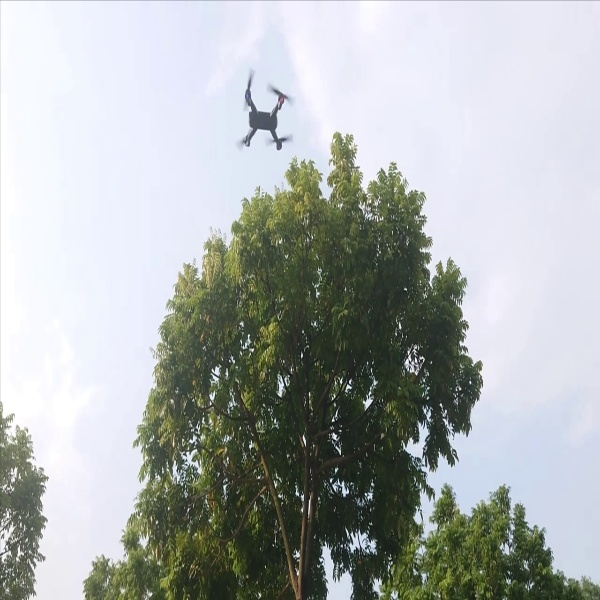drone: (230, 63, 297, 153)
